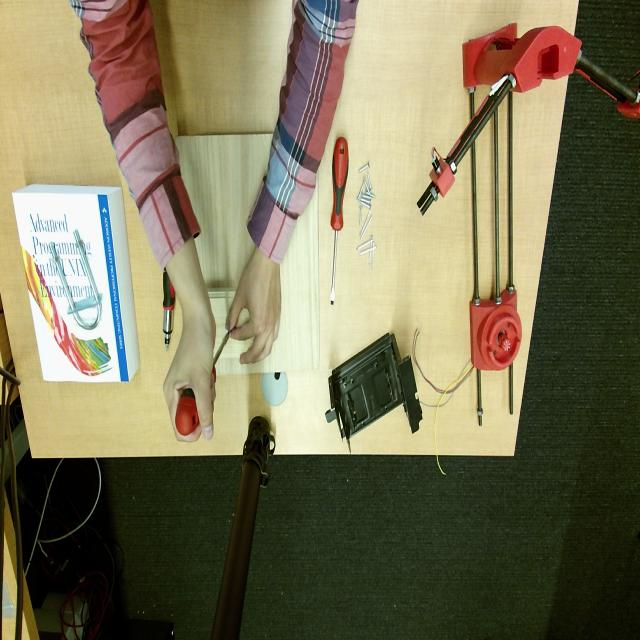screwdriver: (330, 138, 349, 304), (175, 387, 200, 436), (162, 269, 175, 351), (212, 331, 230, 379)
